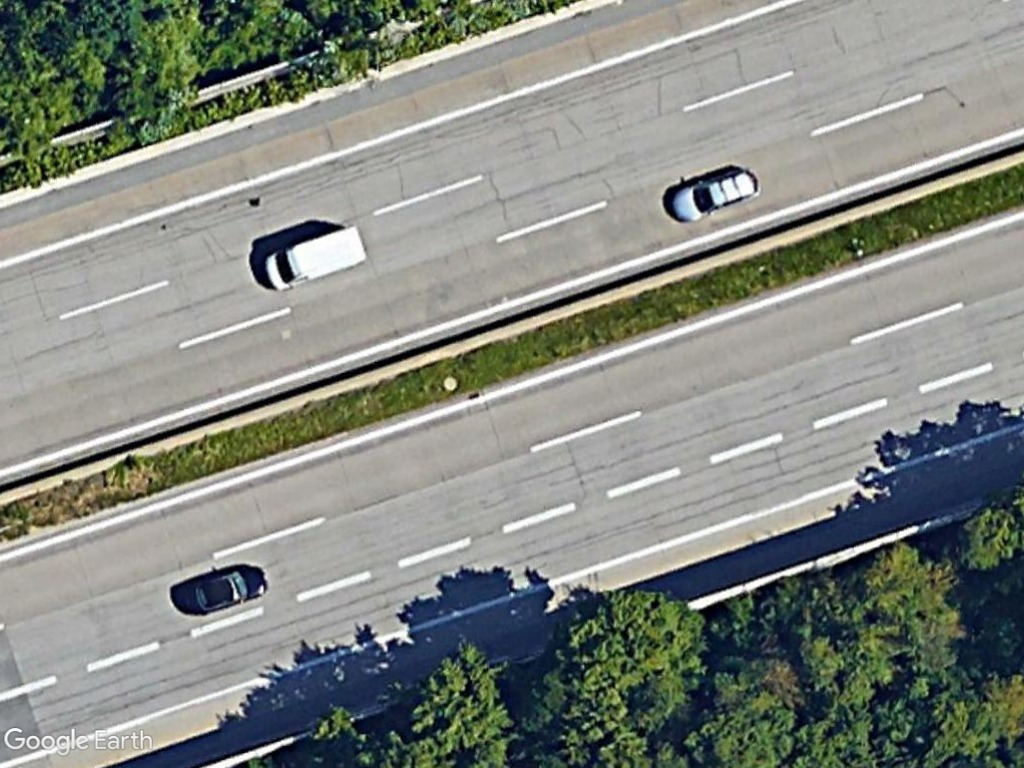car: (661, 159, 768, 230), (175, 556, 274, 619)
van: (257, 217, 376, 296)
